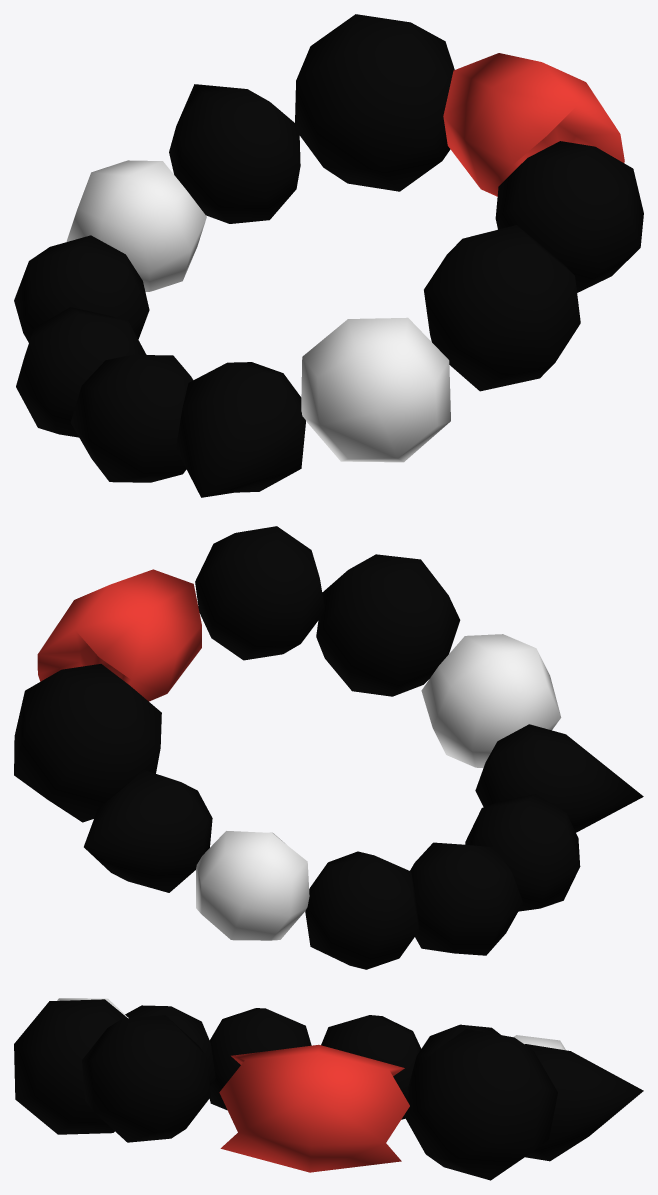
The picture shows the model from 3 angles, top to bottom: view 1: azimuth 30°, elevation 25°; view 2: azimuth 150°, elevation 25°; view 3: azimuth 270°, elevation 25°; orthographic projection. The views are drawn at different scales.
Parts seen in each view (by area): view 1: bracelet; view 2: bracelet; view 3: bracelet.
Part boxes in pixels (x1,y1,x2,y2): bracelet: [14, 14, 643, 497]; bracelet: [14, 526, 643, 969]; bracelet: [14, 998, 643, 1180].
Bounding box in the file's own units: 0.2731 × 0.1401 × 0.3135.
